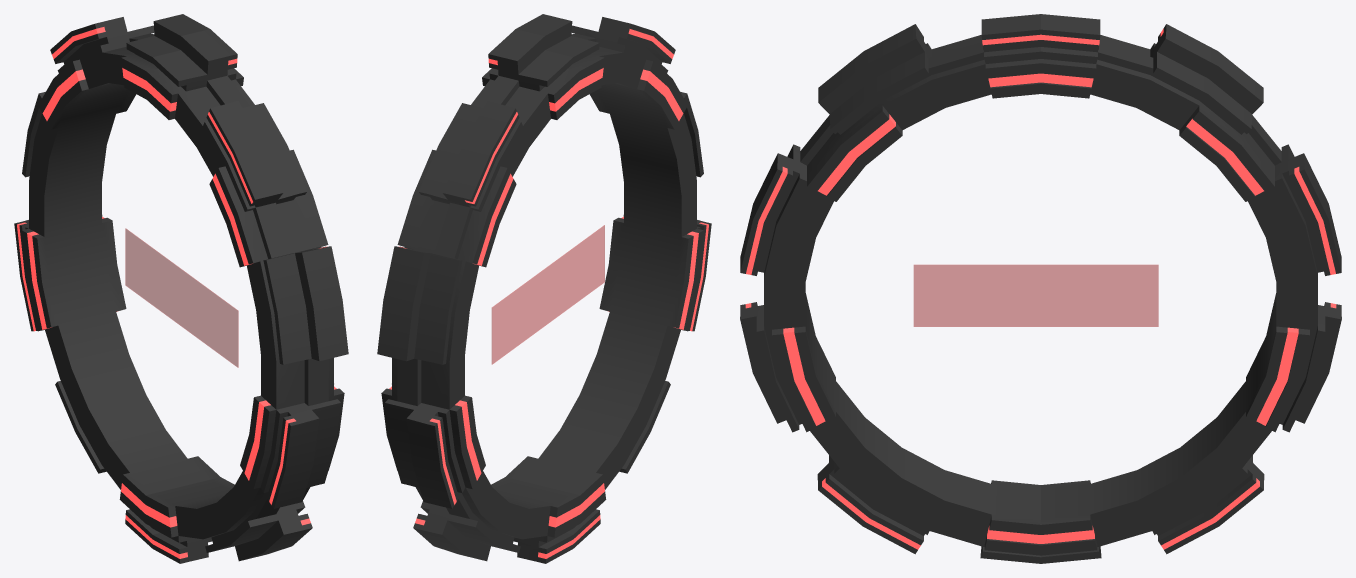
File: gate_air_red.fbx
3 views of the same model, side by side, from view 1: azimuth 30°, elevation 25°; view 2: azimuth 150°, elevation 25°; view 3: azimuth 270°, elevation 25° (orthographic). The views are drawn at different scales.
Parts seen in each view (by area): view 1: gate_air_red; view 2: gate_air_red; view 3: gate_air_red.
Boxes of the visible parts, left/top/right/bottom form: gate_air_red: left=14, top=14, right=348, bottom=563; gate_air_red: left=377, top=14, right=711, bottom=563; gate_air_red: left=740, top=14, right=1341, bottom=563.
Bounding box in the file's own units: 1.12 × 7.2 × 7.14.
